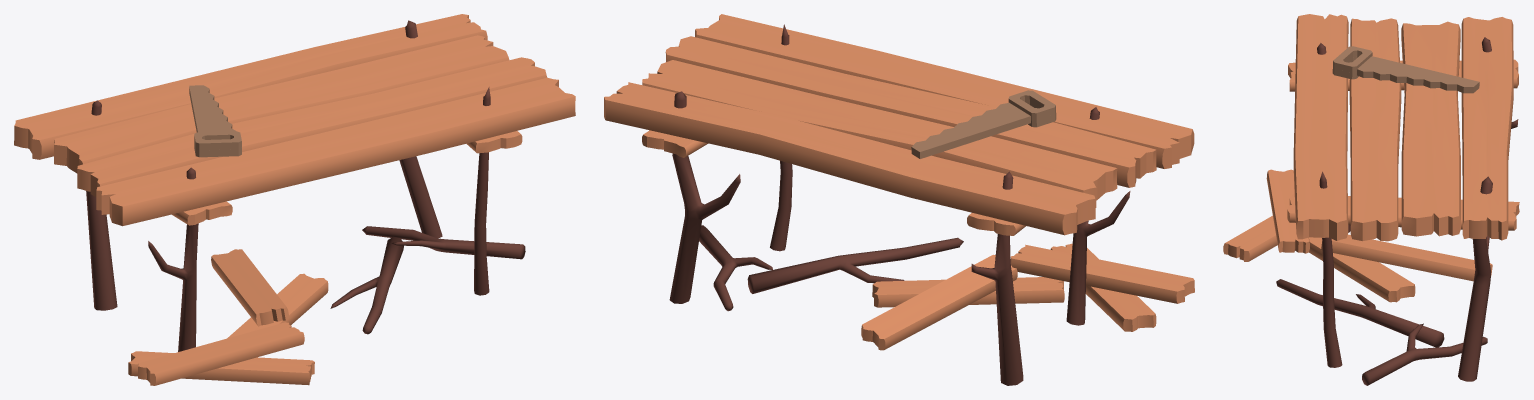
Rendered from s_carpenterStation.fbx.
The picture shows the model from 3 angles, left to right: view 1: azimuth 30°, elevation 25°; view 2: azimuth 150°, elevation 25°; view 3: azimuth 270°, elevation 25°; orthographic projection. The views are drawn at different scales.
Visible parts, largest first — view 1: s_carpenter_planks, s_carpenter_branches, s_carpenter_saw; view 2: s_carpenter_planks, s_carpenter_branches, s_carpenter_saw; view 3: s_carpenter_planks, s_carpenter_branches, s_carpenter_saw.
Part boxes in pixels (left/top/right/bottom): s_carpenter_planks: left=14, top=14, right=575, bottom=385; s_carpenter_branches: left=86, top=20, right=525, bottom=351; s_carpenter_saw: left=189, top=85, right=241, bottom=157; s_carpenter_planks: left=604, top=14, right=1194, bottom=350; s_carpenter_branches: left=669, top=24, right=1130, bottom=385; s_carpenter_saw: left=911, top=90, right=1056, bottom=158; s_carpenter_planks: left=1223, top=14, right=1519, bottom=302; s_carpenter_branches: left=1276, top=37, right=1518, bottom=385; s_carpenter_saw: left=1332, top=46, right=1479, bottom=93.
Bounding box in the file's own units: 206 × 90.78 × 123.
